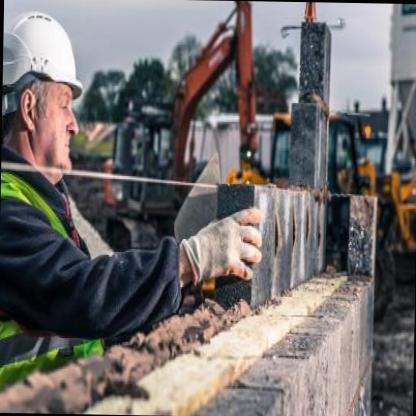helmet: (1, 1, 94, 177)
